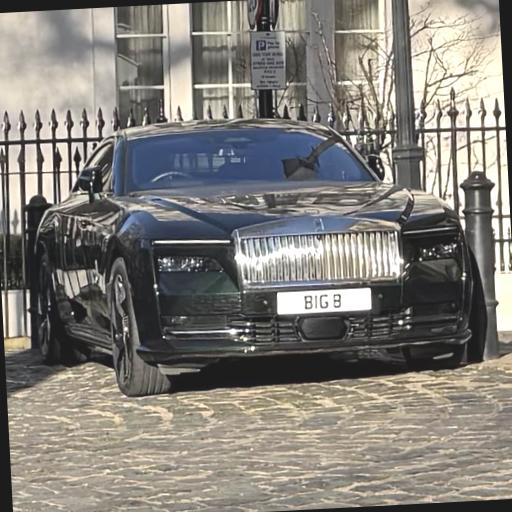numberplates: (277, 288, 372, 315)
